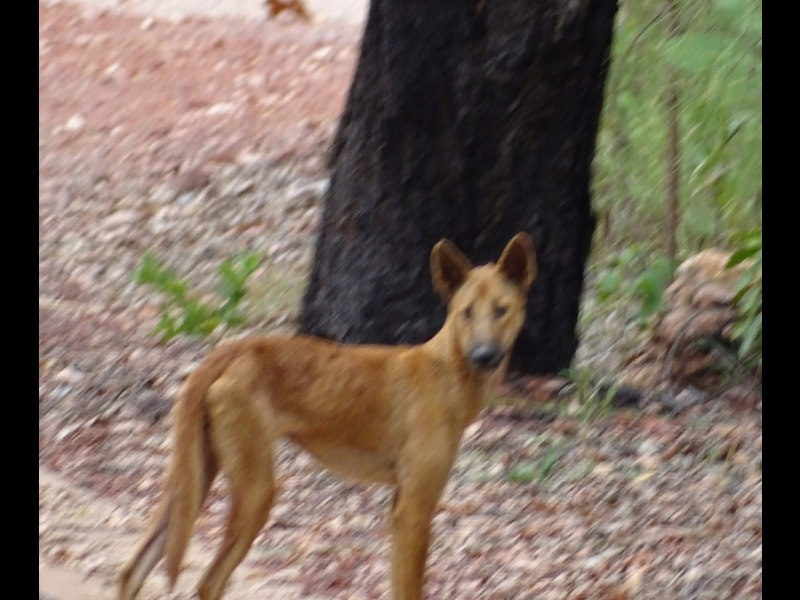dog: (112, 227, 540, 600)
